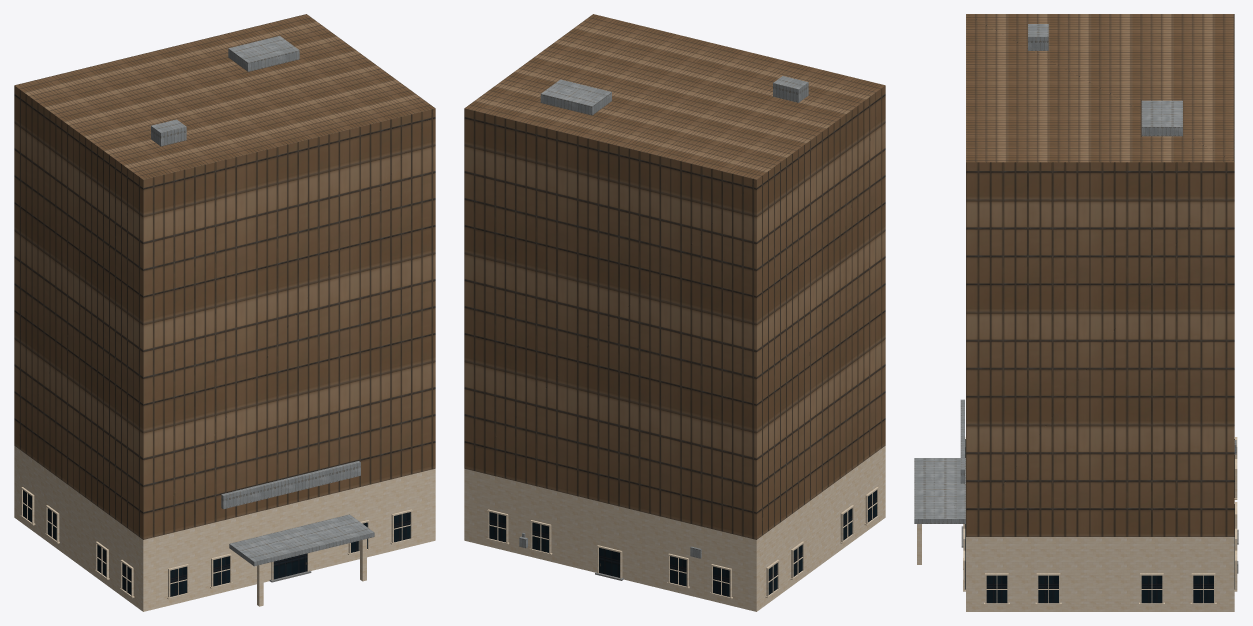
The model's file is congress-plaza-hotel_lod0.gltf.
3 views of the same model, side by side, from view 1: azimuth 30°, elevation 25°; view 2: azimuth 150°, elevation 25°; view 3: azimuth 270°, elevation 25° (orthographic). The views are drawn at different scales.
Parts seen in each view (by area): view 1: congress-plaza-hotel_upper, congress-plaza-hotel_base, congress-plaza-hotel__porte_cochere, congress-plaza-hotel_fen_07-glass-curtain-blue_1_t, congress-plaza-hotel_fen_04-limestone_0, congress-plaza-hotel__sign_band, congress-plaza-hotel__pool_deck, congress-plaza-hotel__hvac; view 2: congress-plaza-hotel_upper, congress-plaza-hotel_base, congress-plaza-hotel_fen_07-glass-curtain-blue_1_t, congress-plaza-hotel_fen_04-limestone_0, congress-plaza-hotel__pool_deck, congress-plaza-hotel__hvac; view 3: congress-plaza-hotel_upper, congress-plaza-hotel_base, congress-plaza-hotel__porte_cochere, congress-plaza-hotel_fen_07-glass-curtain-blue_1_t, congress-plaza-hotel_fen_04-limestone_0, congress-plaza-hotel__pool_deck, congress-plaza-hotel__hvac.
Boxes of the visible parts, x1,y1,x2,y2 form: congress-plaza-hotel_upper: (14,14,435,539); congress-plaza-hotel_base: (14,446,435,611); congress-plaza-hotel__porte_cochere: (229,514,374,566); congress-plaza-hotel_fen_07-glass-curtain-blue_1_t: (23,490,410,596); congress-plaza-hotel_fen_04-limestone_0: (20,487,413,599); congress-plaza-hotel__sign_band: (221,461,360,509); congress-plaza-hotel__pool_deck: (228,36,299,71); congress-plaza-hotel__hvac: (151,119,186,146); congress-plaza-hotel_upper: (464,14,885,539); congress-plaza-hotel_base: (464,446,885,611); congress-plaza-hotel_fen_07-glass-curtain-blue_1_t: (489,490,876,596); congress-plaza-hotel_fen_04-limestone_0: (486,487,879,599); congress-plaza-hotel__pool_deck: (540,79,611,115); congress-plaza-hotel__hvac: (773,76,808,102); congress-plaza-hotel_upper: (966,14,1234,536); congress-plaza-hotel_base: (966,537,1234,611); congress-plaza-hotel__porte_cochere: (914,458,965,523); congress-plaza-hotel_fen_07-glass-curtain-blue_1_t: (965,439,1234,603); congress-plaza-hotel_fen_04-limestone_0: (963,437,1237,604); congress-plaza-hotel__pool_deck: (1141,100,1182,136); congress-plaza-hotel__hvac: (1028,24,1048,50).
Size of the model in its own units: 34.55 by 49.5 by 31.4.
